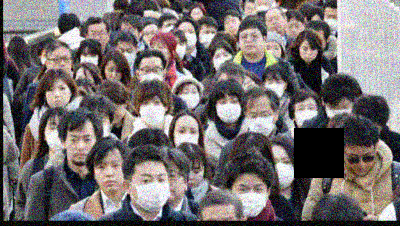with_mask: (132, 170, 171, 212), (232, 180, 268, 217), (247, 107, 275, 135), (139, 96, 165, 125), (216, 95, 241, 124), (274, 155, 295, 189), (45, 119, 65, 152), (173, 124, 199, 147), (295, 101, 318, 126), (178, 84, 200, 108), (325, 100, 353, 118), (139, 63, 164, 83), (265, 76, 285, 97), (180, 26, 197, 48), (117, 45, 135, 64), (199, 27, 216, 46), (80, 50, 100, 66), (324, 12, 338, 30), (175, 40, 187, 59)
without_mask: (94, 156, 124, 191), (66, 132, 96, 165), (344, 148, 376, 176), (239, 29, 264, 54), (45, 82, 71, 106), (168, 166, 185, 201), (87, 28, 108, 50), (49, 53, 72, 72), (188, 163, 205, 187), (265, 12, 285, 32), (104, 63, 123, 81), (299, 43, 317, 61), (285, 20, 303, 37), (224, 16, 240, 34), (143, 27, 158, 42), (266, 42, 282, 56)
